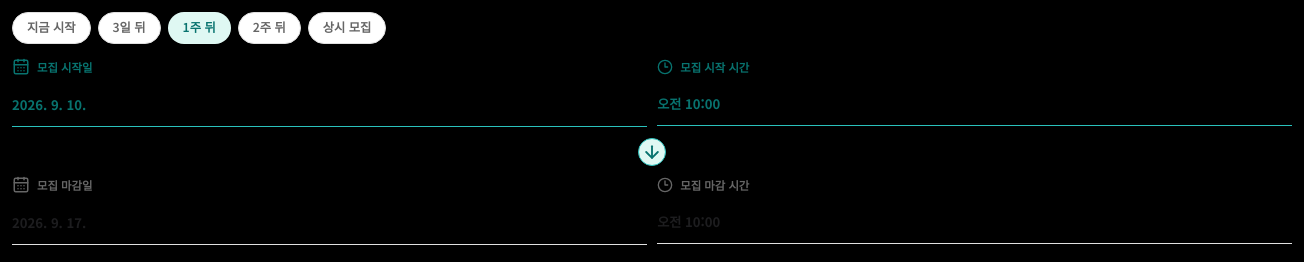
Test: DateRangePicker › Given a dated end, When always-open is selected, Then the end time control is removed
This screenshot has width=1304, height=262.
Click the button "상시 모집" at [347, 28], box [308, 12, 386, 44]
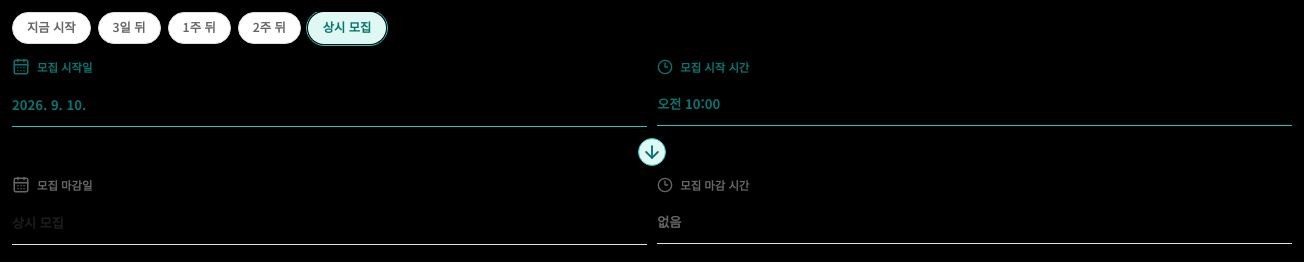
Result: the text "없음" is shown at [657, 200, 1292, 244]
Result: the button with aria-label "모집 마감일 선택" reads "상시 모집" at [12, 201, 647, 245]
